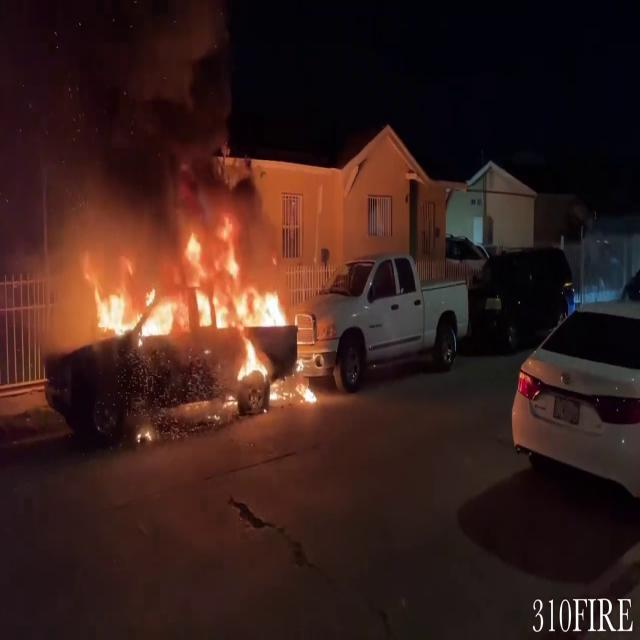Fire: (85, 228, 317, 396)
Smoke: (7, 0, 266, 284)
